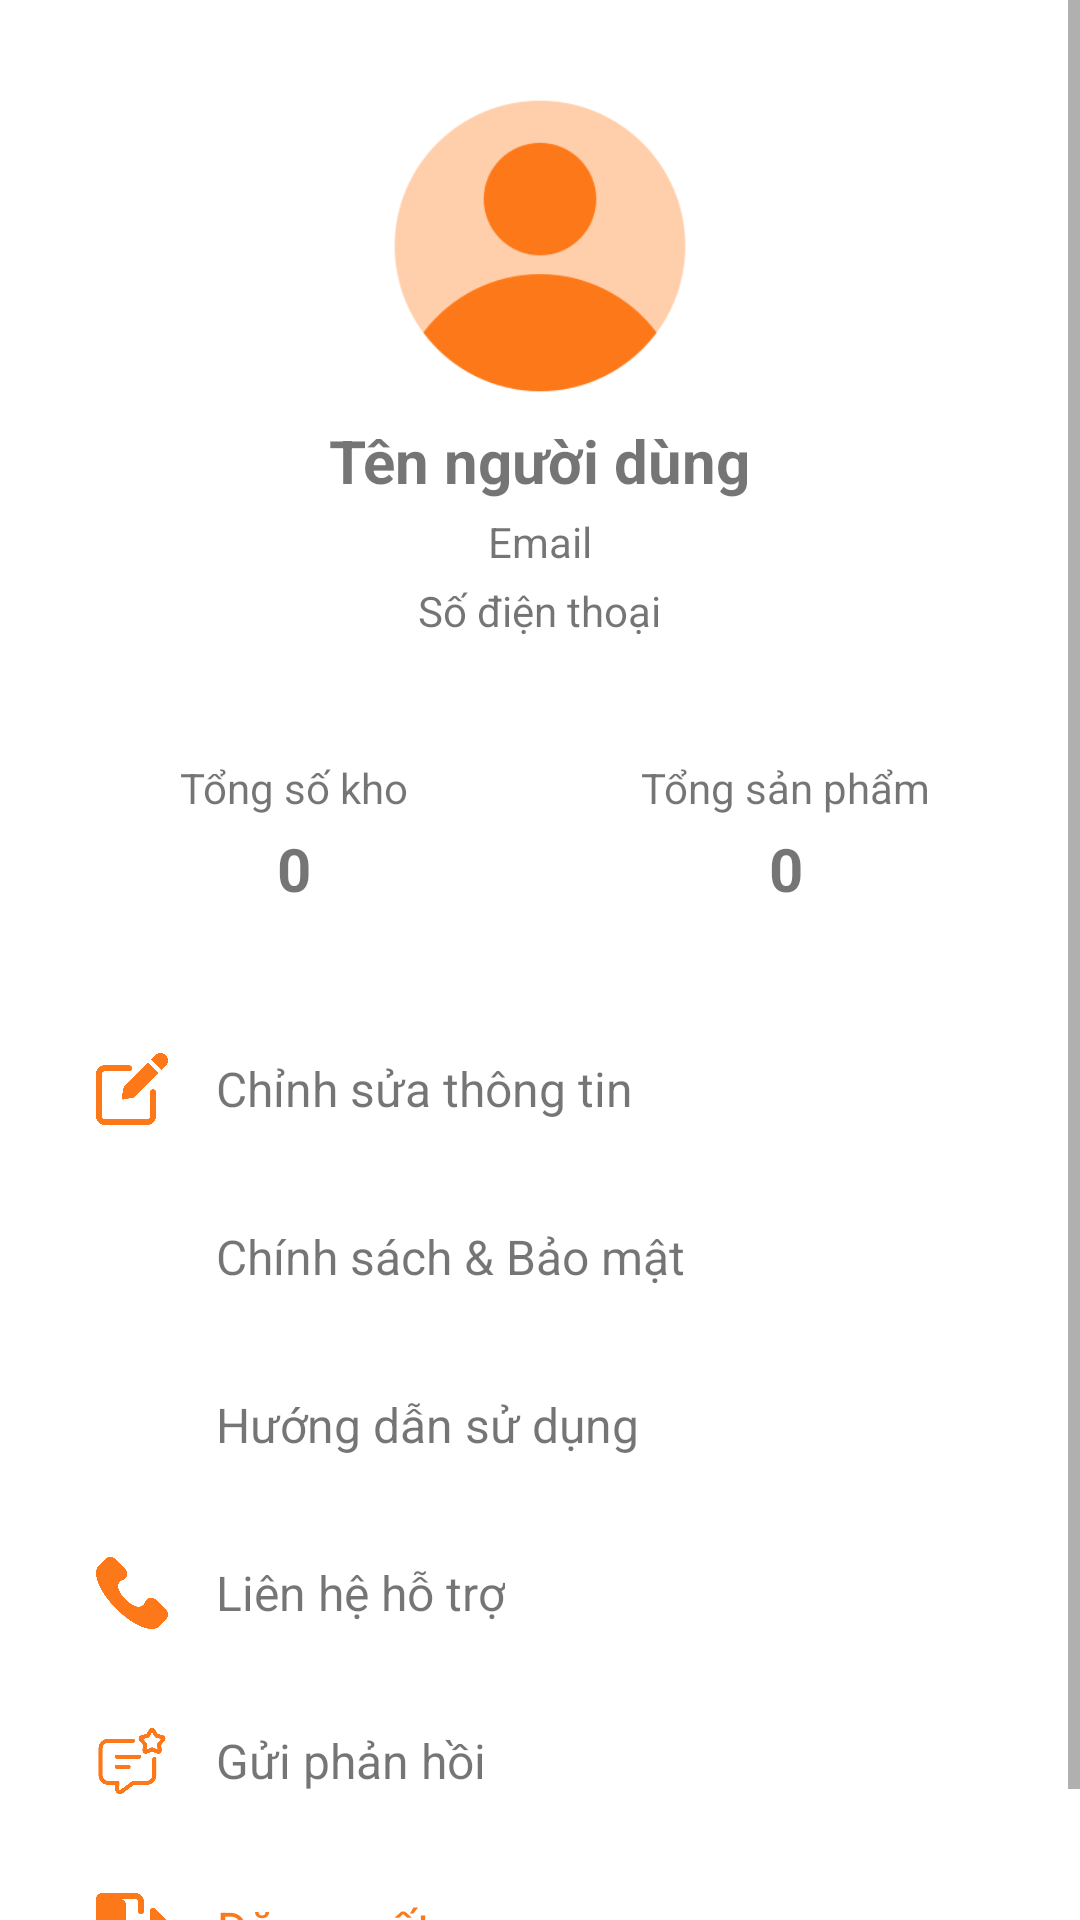

Where icons sit on this 1080×1920 app screen, as [x1=x1, y1=y1, x2=x2, y2=y2]:
contact: [x1=96, y1=1557, x2=168, y2=1629]
edit: [x1=96, y1=1053, x2=168, y2=1125]
feedback: [x1=98, y1=1728, x2=166, y2=1794]
